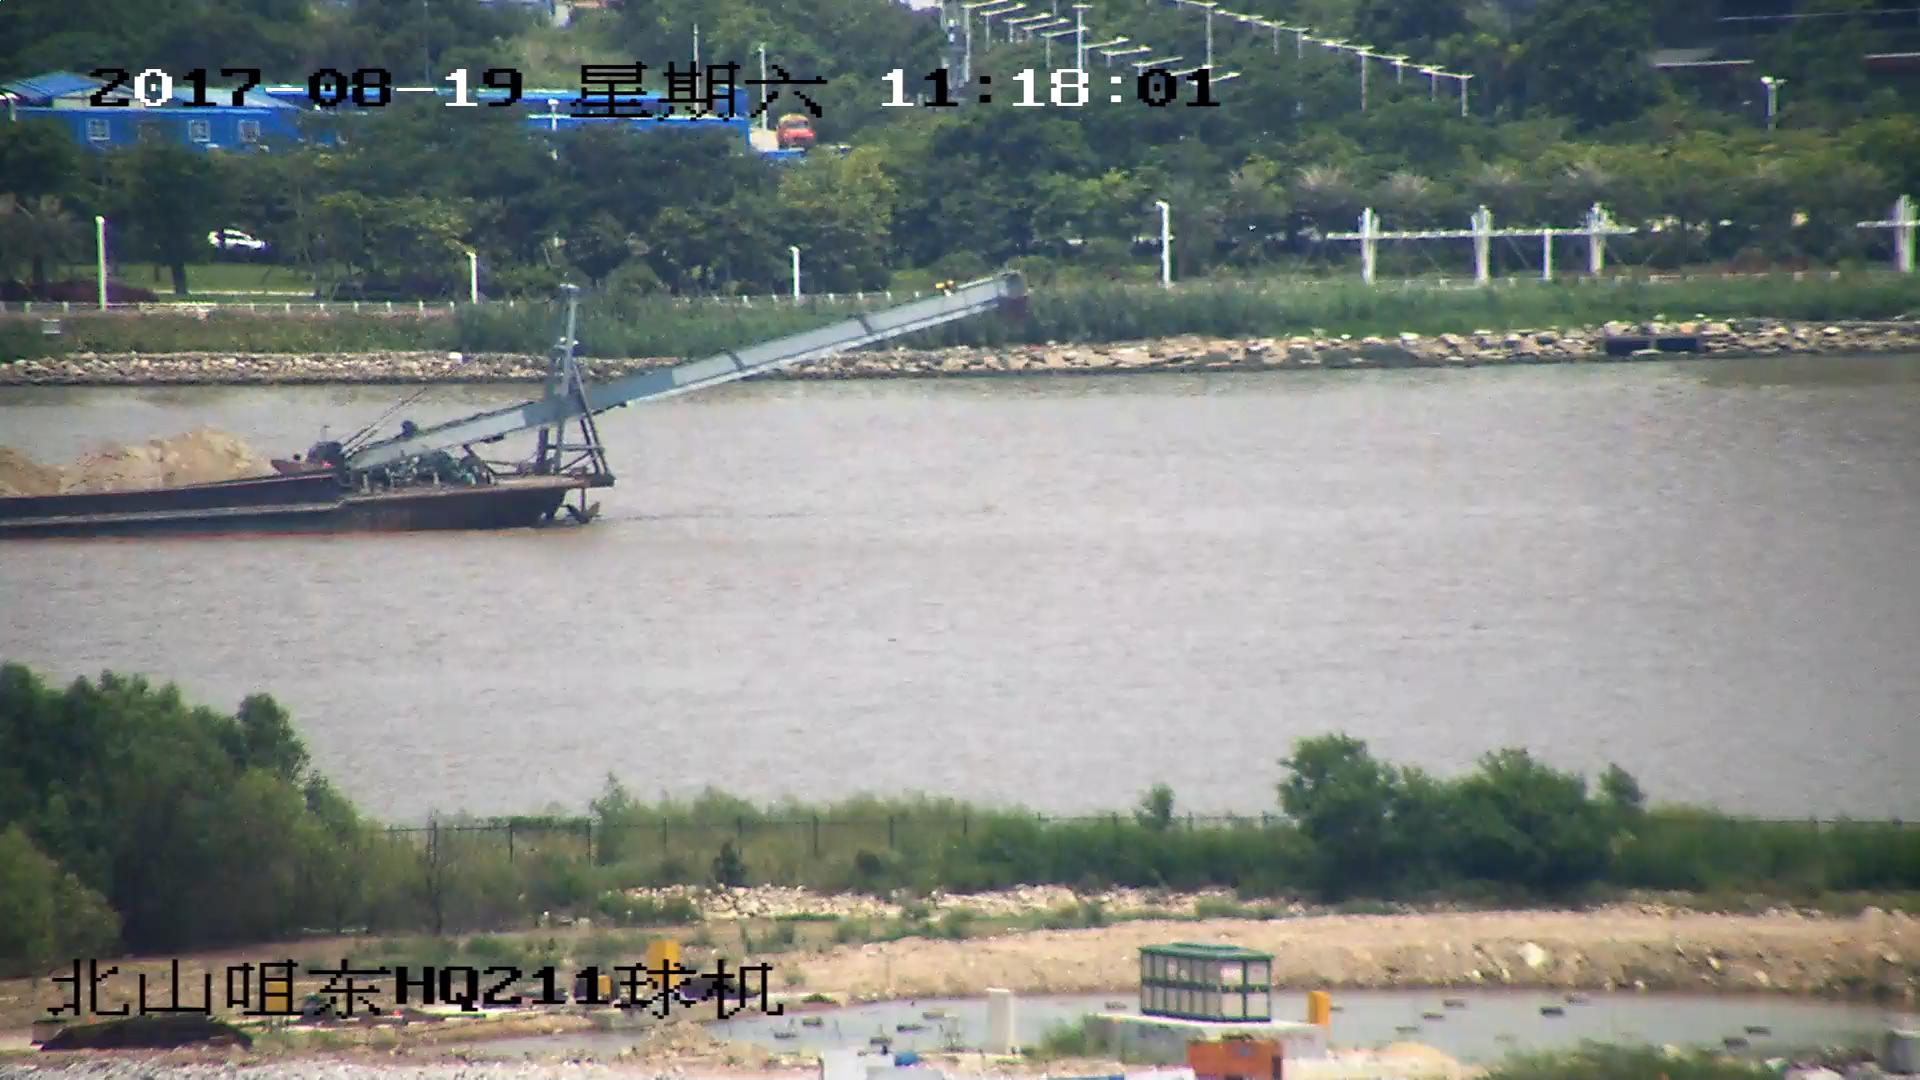ore carrier: (1, 272, 1019, 545)
